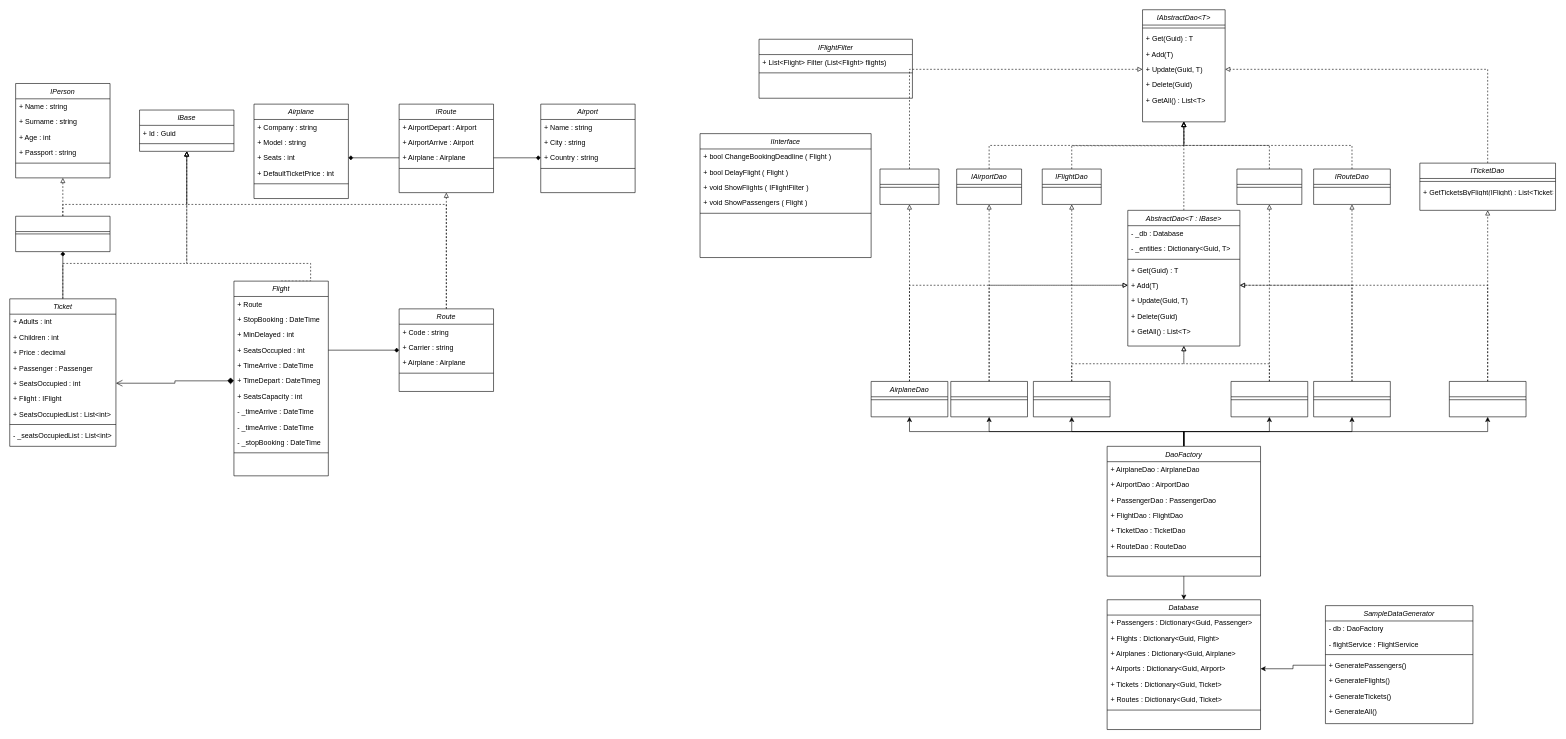
Some shapes in this 1566 by 739 pixel diagram are drawn without their labels. The shapes that lost their labels are listed below. From the top down, each one's centre as x and y in pixels, then its label:
At (x=909, y=186): "IAirplaneDao".
At (x=1269, y=186): "IPassengerDao".
At (x=62, y=234): "Passenger".
At (x=988, y=399): "AirportDao".
At (x=1071, y=399): "FlightDao".
At (x=1269, y=399): "PassengerDao".
At (x=1351, y=399): "RouteDao".
At (x=1487, y=399): "TicketDao".
